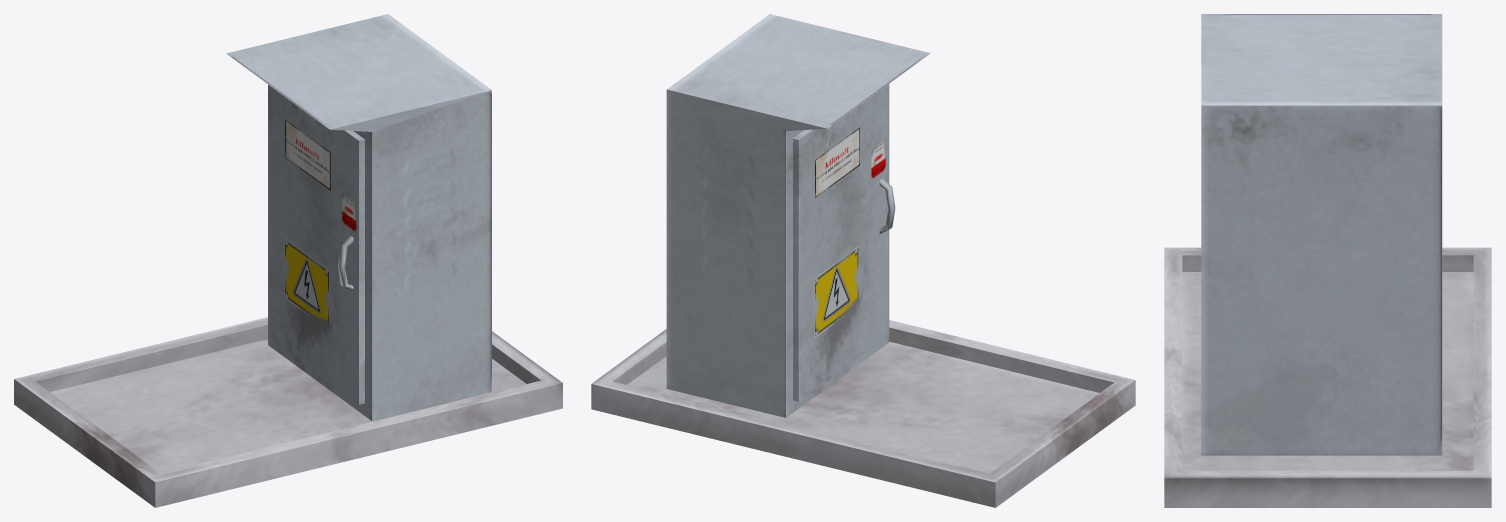
The model's file is transformer.dae.
3 renders of one model, left to right at view 1: azimuth 30°, elevation 25°; view 2: azimuth 150°, elevation 25°; view 3: azimuth 270°, elevation 25°, orthographic. The views are drawn at different scales.
Visible parts, largest first — view 1: HighVolt; view 2: HighVolt; view 3: HighVolt.
Boxes of the visible parts, x1=… form: HighVolt: x1=14, y1=14, x2=562, y2=507; HighVolt: x1=591, y1=14, x2=1135, y2=507; HighVolt: x1=1164, y1=14, x2=1491, y2=507.
Bounding box in the file's own units: 6.78 × 4.07 × 5.09.
1 material, 1 textured.
